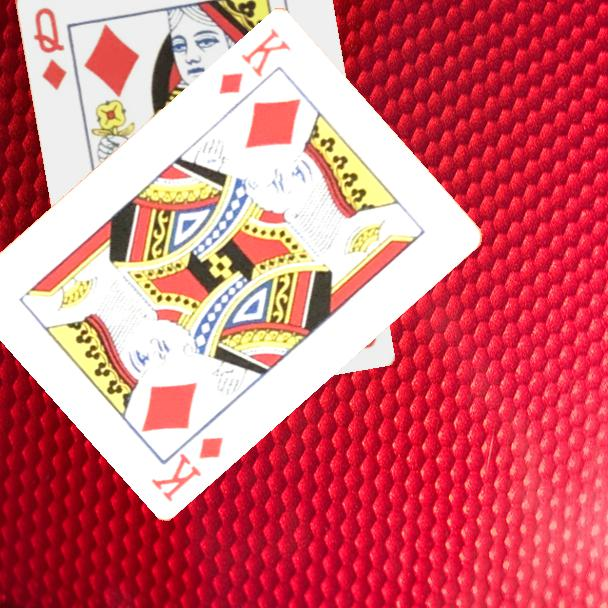d12: (29, 3, 69, 93)
d13: (214, 23, 295, 97), (147, 432, 226, 505)
